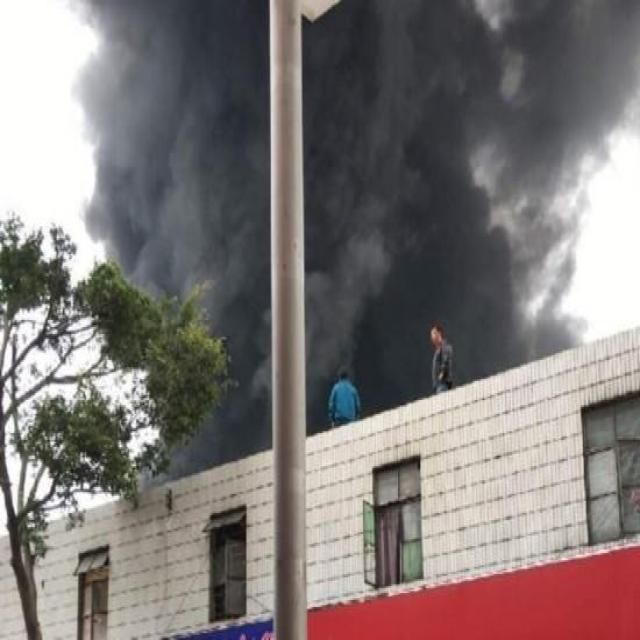Smoke: (70, 2, 640, 496)
